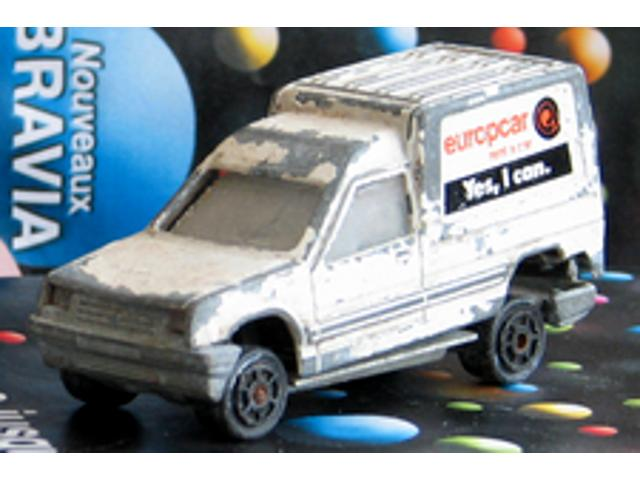toy-car: (20, 38, 611, 445)
